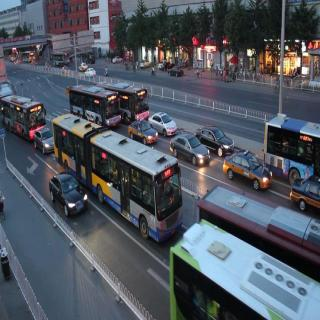BigCar: (54, 110, 181, 245), (163, 221, 320, 320), (259, 102, 320, 192), (68, 84, 121, 128), (1, 97, 47, 141)
Car: (46, 168, 88, 222), (224, 144, 271, 190), (194, 120, 236, 154), (169, 131, 207, 166), (146, 108, 178, 137), (129, 117, 155, 146), (34, 126, 54, 157), (168, 65, 184, 79), (112, 54, 124, 65), (84, 67, 96, 77)
